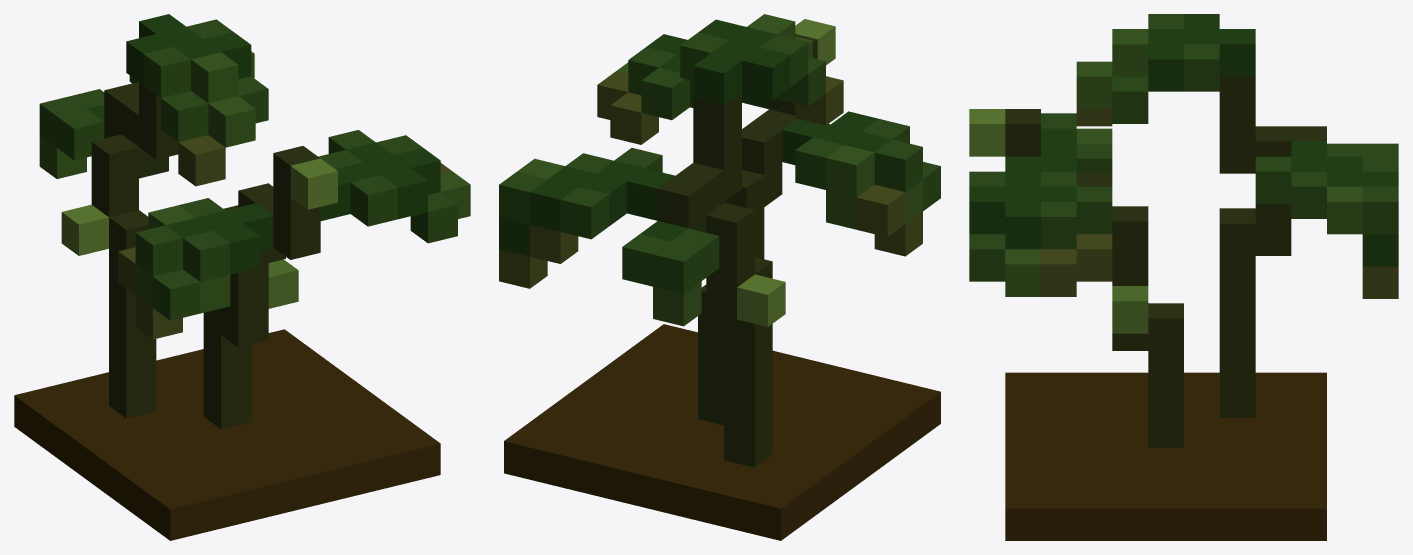
File: Plant02.gltf
The picture shows the model from 3 angles, left to right: view 1: azimuth 30°, elevation 25°; view 2: azimuth 150°, elevation 25°; view 3: azimuth 270°, elevation 25°; orthographic projection. The views are drawn at different scales.
Visible parts, largest first — view 1: Plant02, PlantSoil; view 2: Plant02, PlantSoil; view 3: Plant02, PlantSoil.
Boxes of the visible parts, x1,y1,x2,y2 form: Plant02: (39,14,470,429); PlantSoil: (14,329,440,540); Plant02: (499,14,940,467); PlantSoil: (504,324,940,540); Plant02: (969,14,1398,447); PlantSoil: (1005,372,1326,540).
Bounding box in the file's own units: 10 × 13 × 12.
